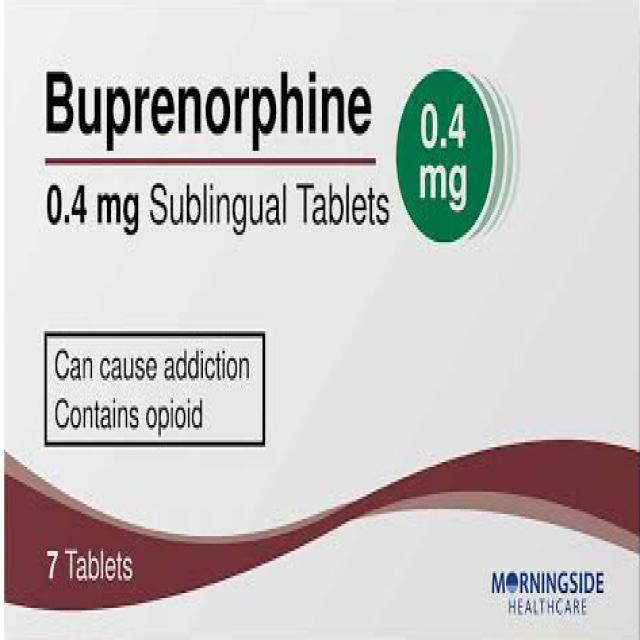drug-name: (40, 66, 378, 172)
